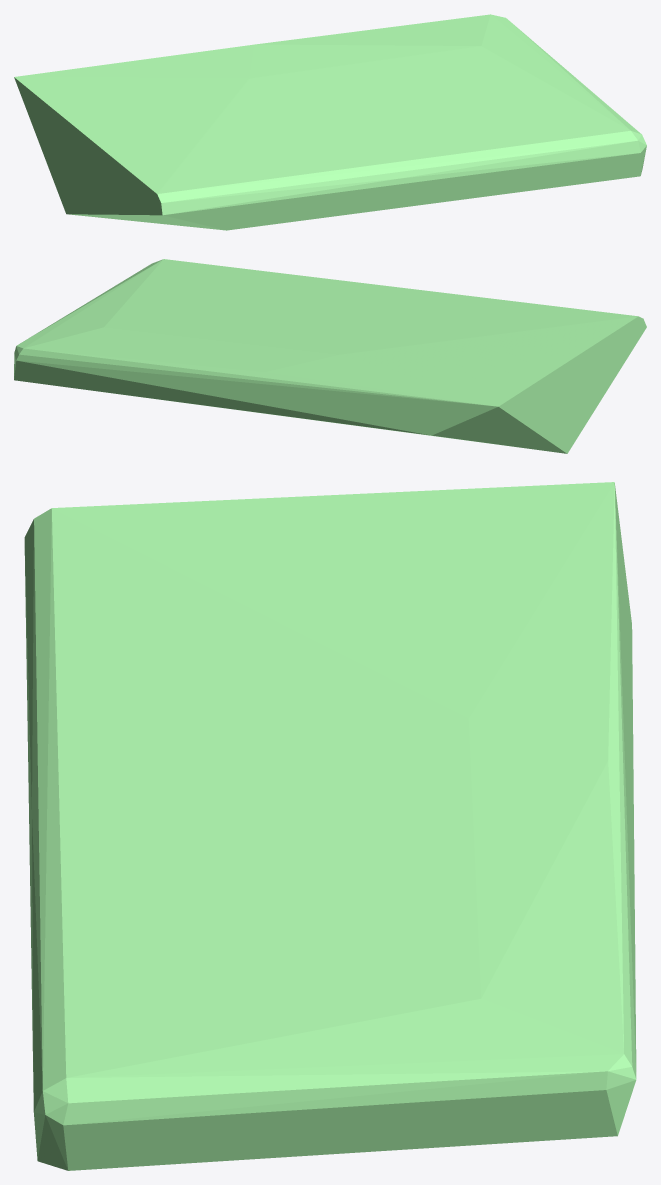
Rendered from UMIRobot_UMIRobot_link_5_convex_coll_18.dae.
The picture shows the model from 3 angles, top to bottom: view 1: azimuth 30°, elevation 25°; view 2: azimuth 150°, elevation 25°; view 3: azimuth 270°, elevation 25°; orthographic projection. The views are drawn at different scales.
Visible parts, largest first — view 1: node; view 2: node; view 3: node.
Part boxes in pixels (left/top/right/bottom): node: left=14, top=14, right=646, bottom=230; node: left=14, top=259, right=646, bottom=453; node: left=24, top=482, right=636, bottom=1170.
Bounding box in the file's own units: 0.0606 × 0.0127 × 0.0324.
